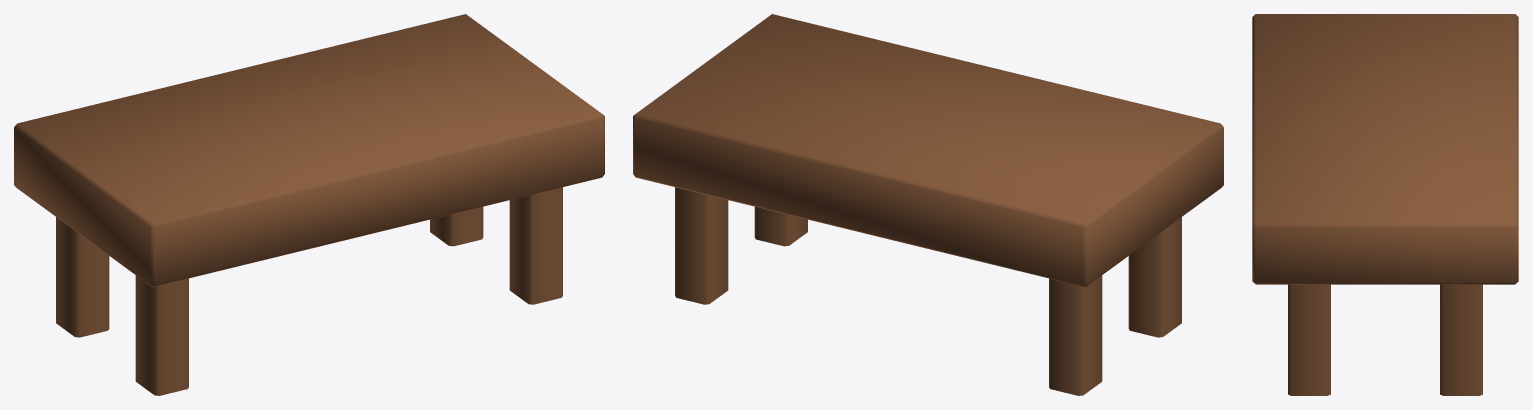
File: Table-1.fbx
The picture shows the model from 3 angles, left to right: view 1: azimuth 30°, elevation 25°; view 2: azimuth 150°, elevation 25°; view 3: azimuth 270°, elevation 25°; orthographic projection. The views are drawn at different scales.
Visible parts, largest first — view 1: Cube.862; view 2: Cube.862; view 3: Cube.862.
Boxes of the visible parts, x1=… form: Cube.862: x1=14, y1=14, x2=604, y2=395; Cube.862: x1=633, y1=14, x2=1223, y2=395; Cube.862: x1=1252, y1=14, x2=1518, y2=395.
Size of the model in its own units: 60.42 by 24.25 by 32.11.
